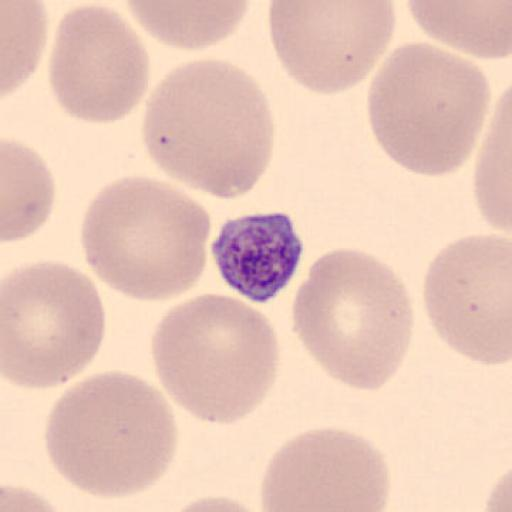Platelet: (208, 208, 306, 304)
RBC: (141, 56, 274, 200), (291, 247, 414, 393), (44, 370, 178, 500), (150, 292, 280, 425), (80, 174, 213, 304), (368, 42, 491, 178), (3, 258, 107, 391), (48, 2, 152, 126), (266, 0, 398, 96), (421, 231, 512, 367), (258, 424, 391, 512), (122, 0, 252, 52), (405, 0, 512, 61), (1, 135, 57, 243), (473, 89, 512, 234), (1, 0, 49, 99), (1, 479, 73, 512), (167, 493, 267, 512), (485, 465, 512, 512)
